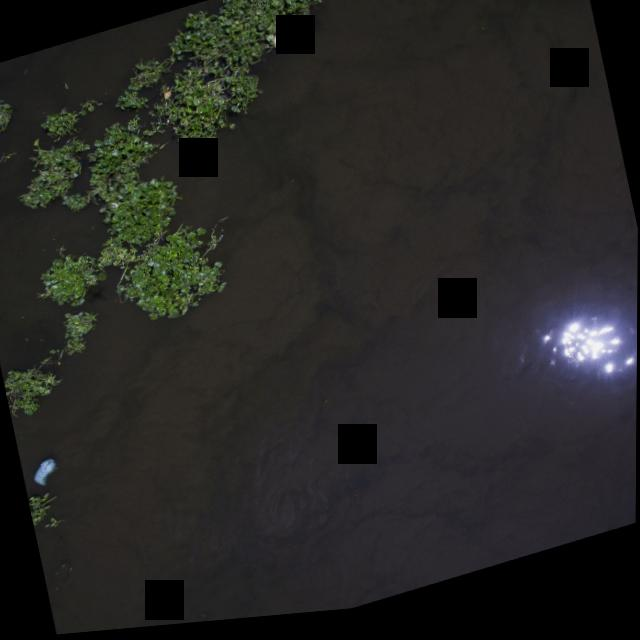plastic: (21, 448, 69, 491), (269, 30, 299, 55), (103, 198, 125, 215)
